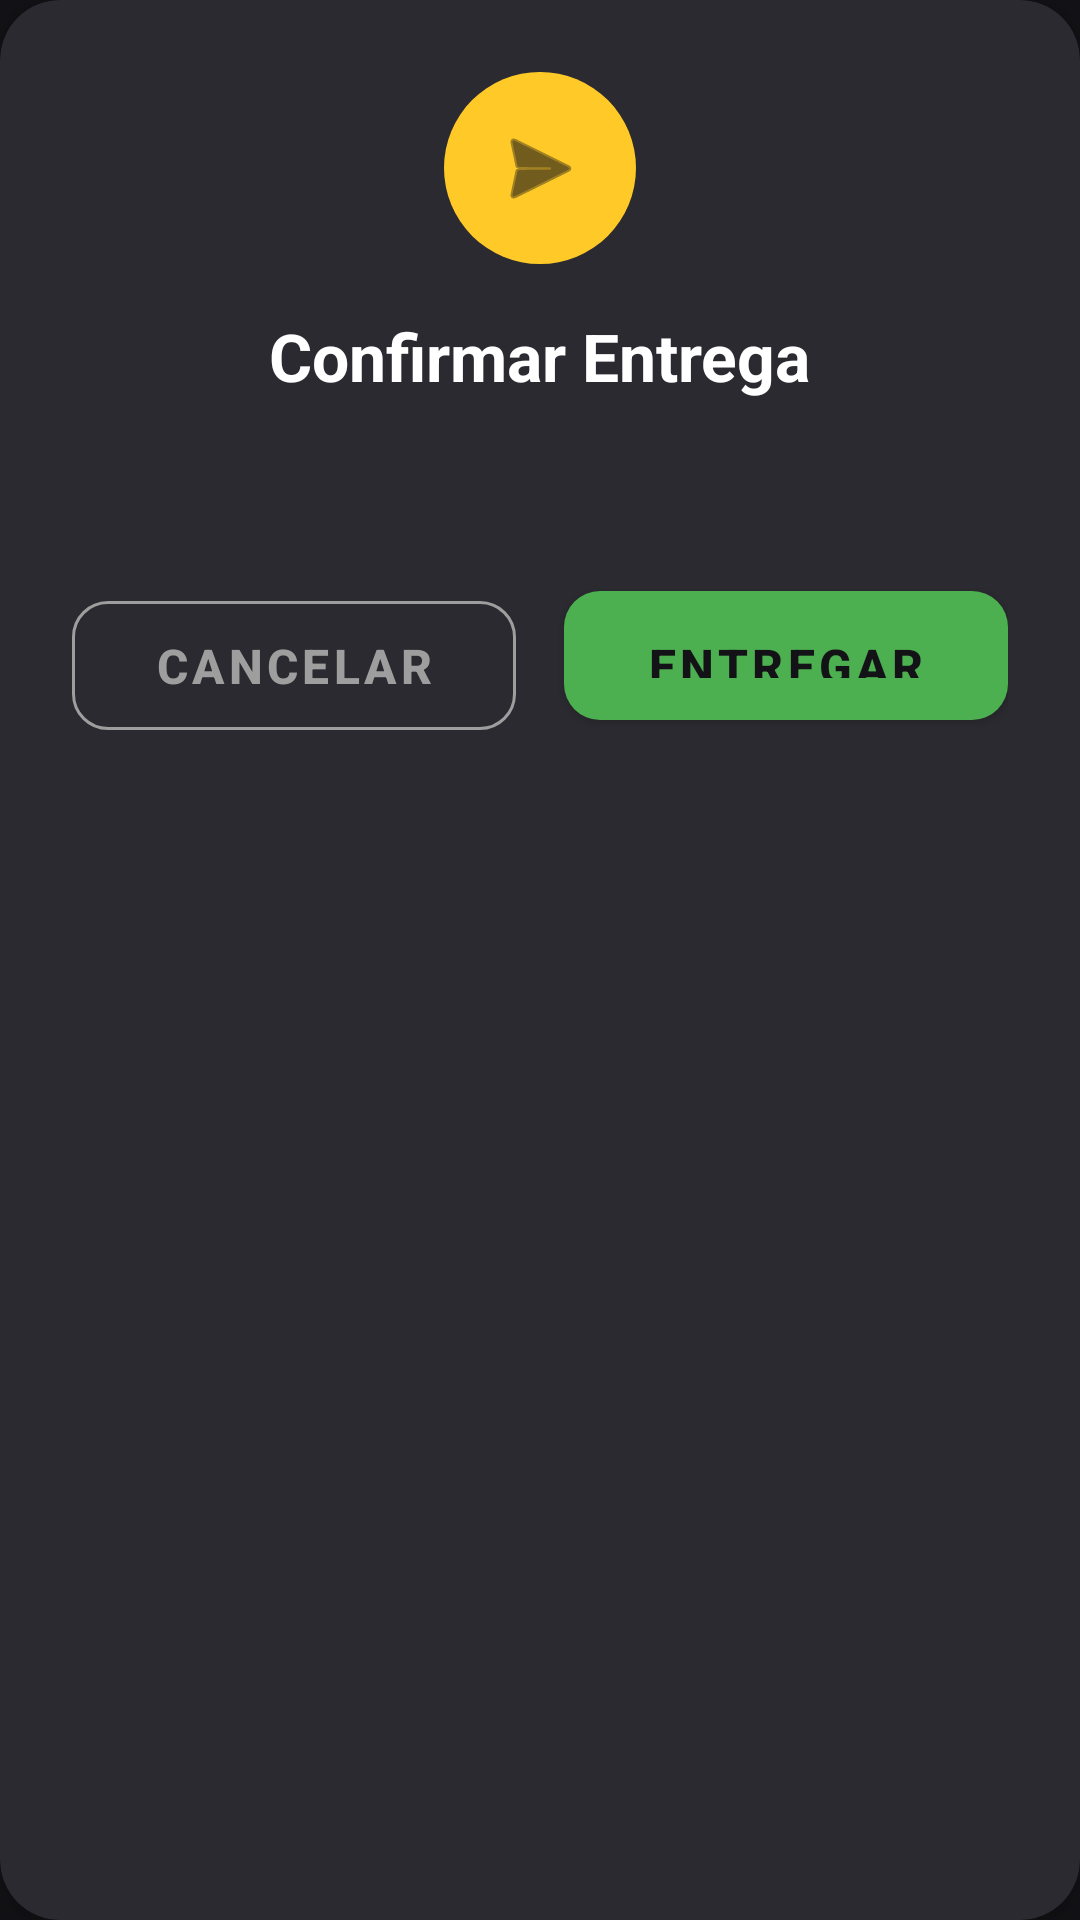

Named icons in this screenshot (1080×1920) and their centers, point (x, y):
send: point (540, 168)
